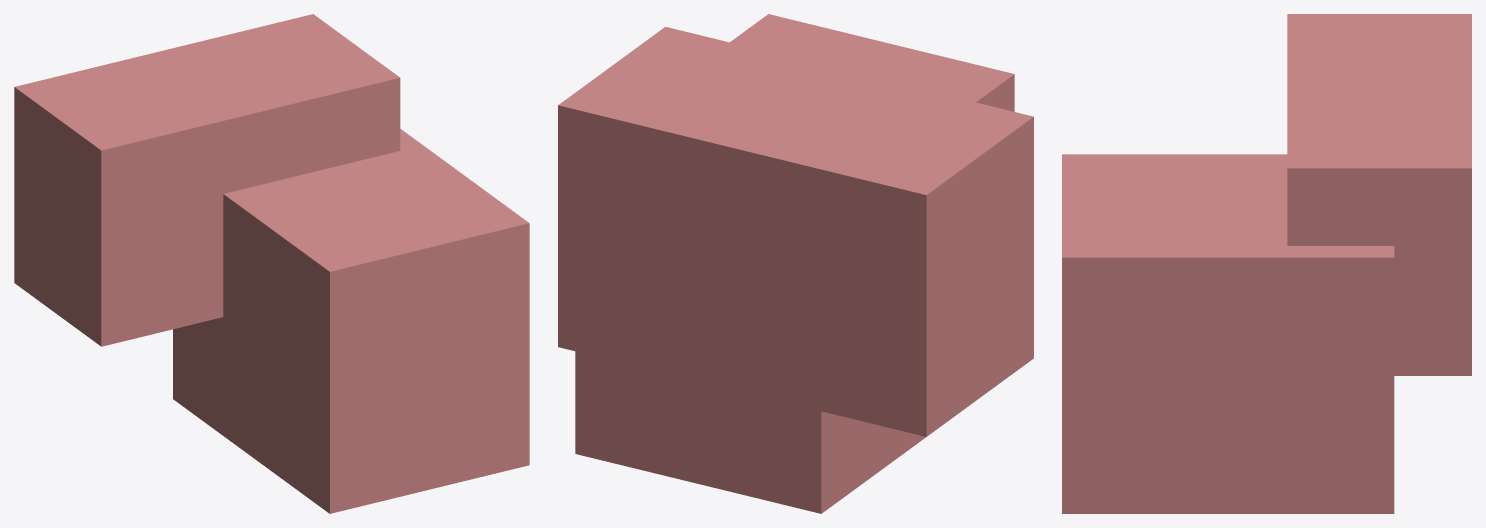
File: 199516_occ.glb
3 renders of one model, left to right at view 1: azimuth 30°, elevation 25°; view 2: azimuth 150°, elevation 25°; view 3: azimuth 270°, elevation 25°, orthographic. The views are drawn at different scales.
Parts seen in each view (by area): view 1: world; view 2: world; view 3: world.
Part boxes in pixels (x1,y1,x2,y2): world: (14,14,529,513); world: (558,14,1033,513); world: (1062,14,1471,513).
Bounding box in the file's own units: 7.31 × 6.85 × 7.62.
